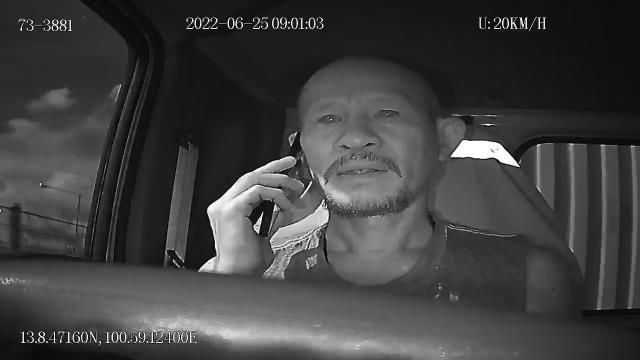PhoneUse: (259, 130, 303, 238)
SafeDriving: (310, 102, 350, 132), (368, 97, 408, 126)
